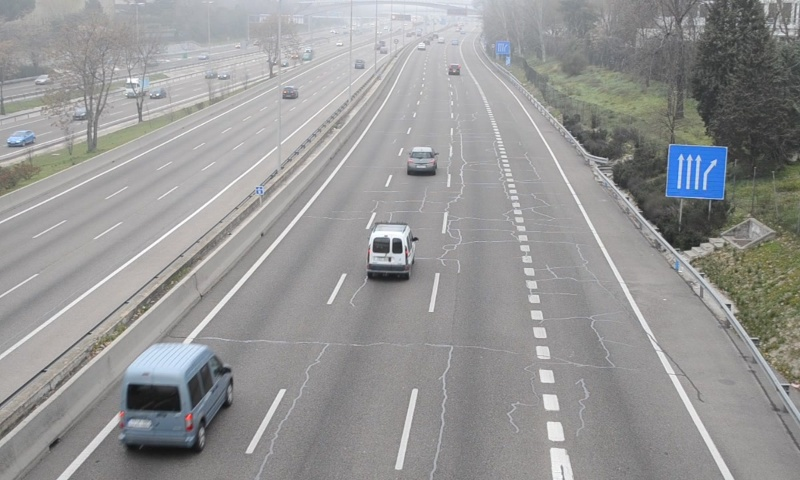car: (406, 146, 437, 174)
van: (121, 344, 232, 448), (366, 224, 414, 276)
